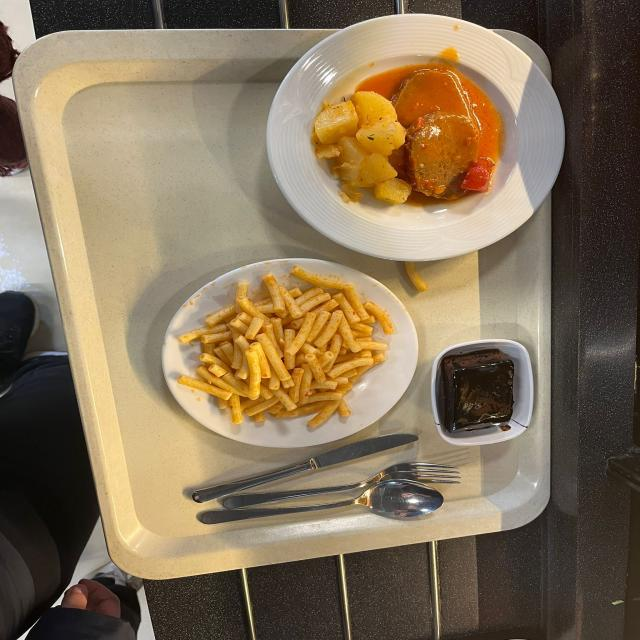ana_yemek: (269, 14, 560, 252), (158, 262, 414, 443)
yan_yemek: (428, 339, 534, 443)
